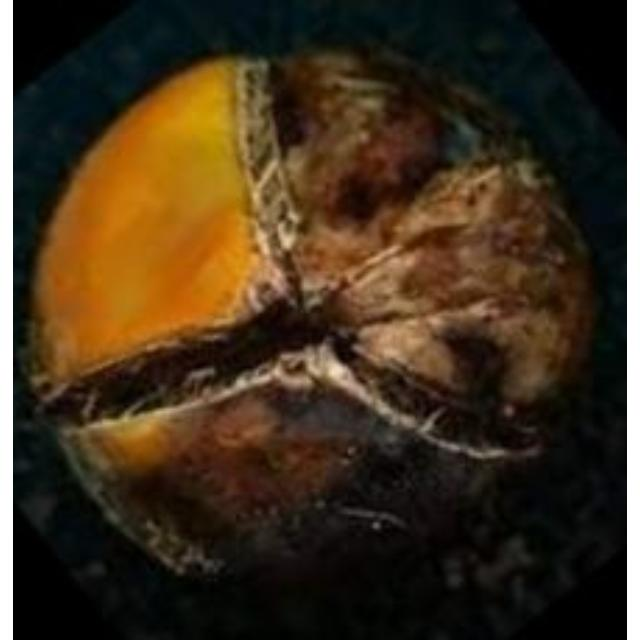damaged: (30, 39, 597, 612)
